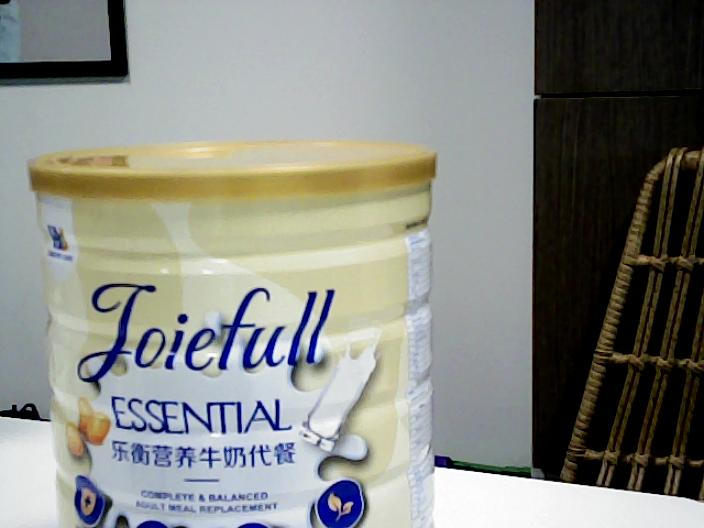Adult_Milk_800-899g_Halal_NonHealthy: (25, 144, 434, 528)
